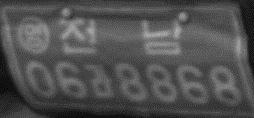0: (24, 60, 56, 100)
6: (176, 64, 208, 104), (57, 62, 87, 99)
8: (209, 64, 242, 107), (114, 62, 146, 102), (146, 63, 176, 102)
라: (87, 63, 113, 99)
영: (17, 14, 52, 56)
전남_D: (57, 16, 183, 55)
